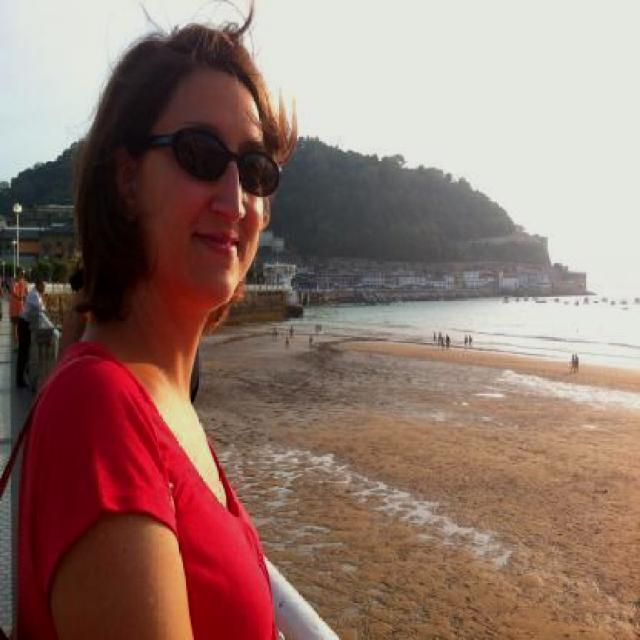face_nomask: (159, 128, 281, 267)
glasses: (119, 124, 284, 204)
head_nohelmet: (142, 27, 286, 108)
person: (6, 17, 303, 640)
